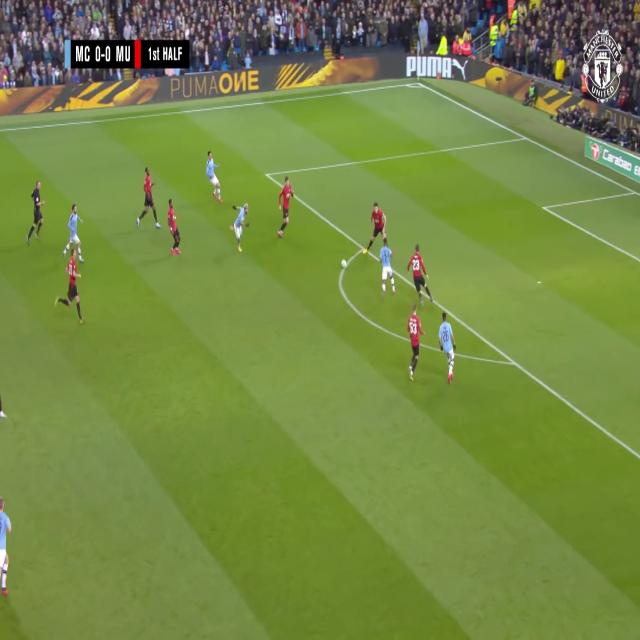ball: (341, 258, 349, 272)
team1: (56, 248, 85, 321), (136, 168, 159, 230), (410, 247, 433, 303), (408, 309, 424, 382), (276, 180, 292, 238), (167, 199, 182, 258), (368, 205, 386, 252)
team2: (438, 316, 457, 384), (64, 203, 86, 260), (2, 499, 14, 598), (206, 152, 223, 202), (380, 242, 395, 298), (232, 204, 247, 253)
